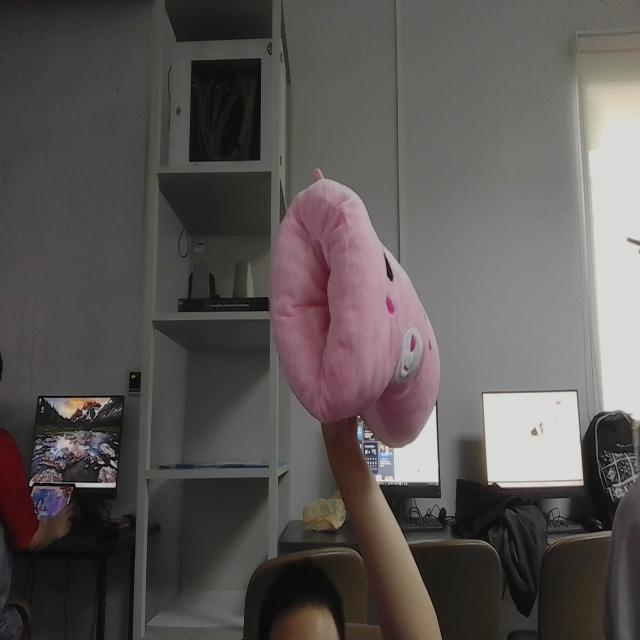pinkpillow: (263, 150, 442, 460)
